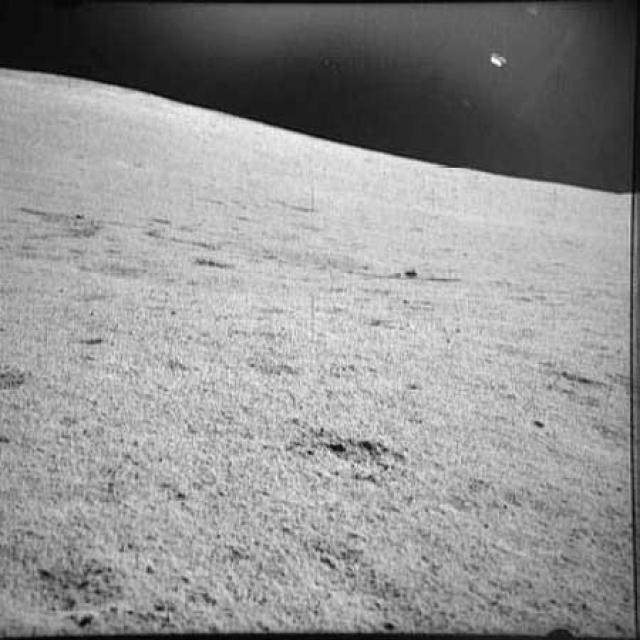crater: (287, 402, 405, 478), (339, 255, 466, 289), (550, 350, 622, 400), (182, 252, 242, 278)
